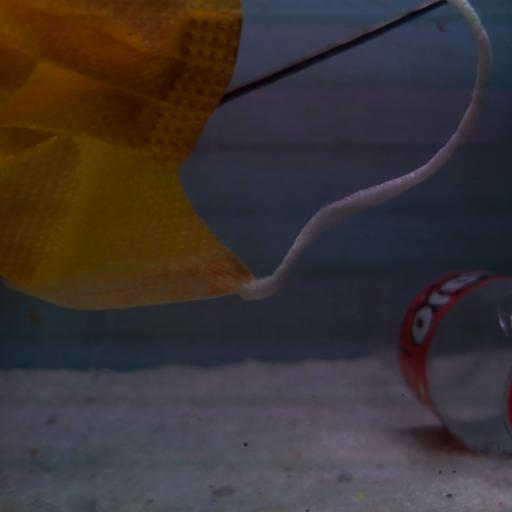mask: (5, 4, 489, 304)
plastic_bottle: (351, 257, 512, 458)
